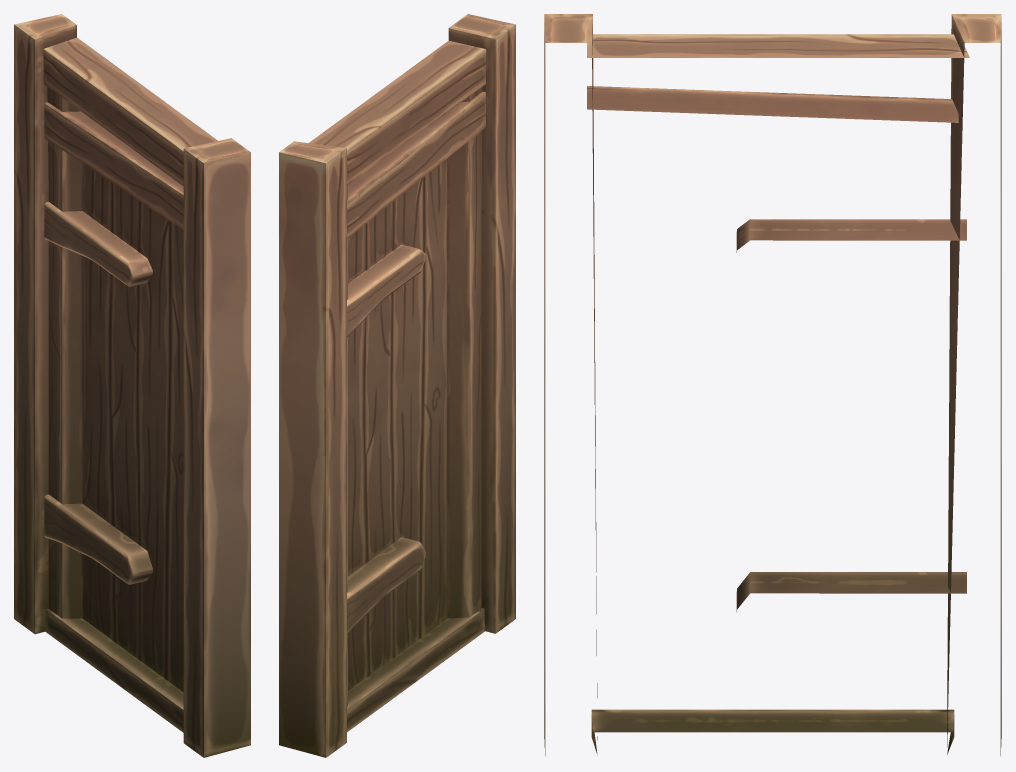
File: SM_Door_02.gltf
3 views of the same model, side by side, from view 1: azimuth 30°, elevation 25°; view 2: azimuth 150°, elevation 25°; view 3: azimuth 270°, elevation 25° (orthographic). The views are drawn at different scales.
Visible parts, largest first — view 1: SM_Door_02_LOD0; view 2: SM_Door_02_LOD0; view 3: SM_Door_02_LOD0.
Part boxes in pixels (left/top/right/bottom): SM_Door_02_LOD0: left=14, top=14, right=250, bottom=757; SM_Door_02_LOD0: left=279, top=14, right=515, bottom=757; SM_Door_02_LOD0: left=544, top=14, right=1001, bottom=755.
Size of what is drawn, in the model's own units: 0.2078 by 2.49 by 1.44.
1 material, 1 textured.
